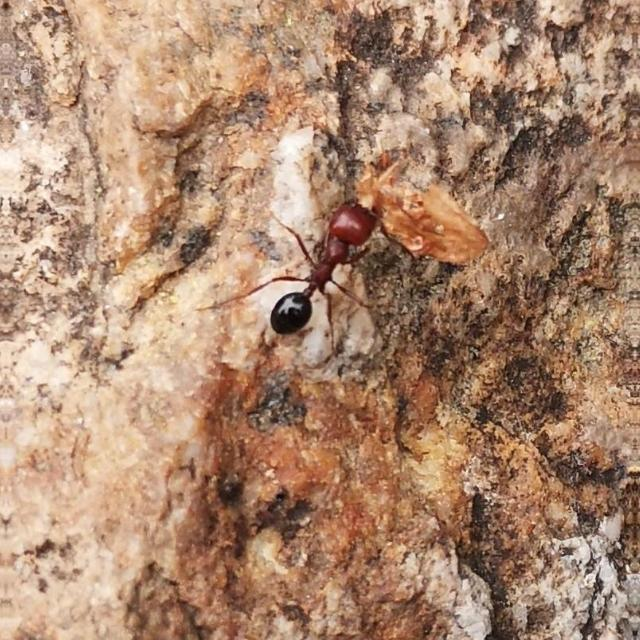Messor: (255, 192, 393, 338)
